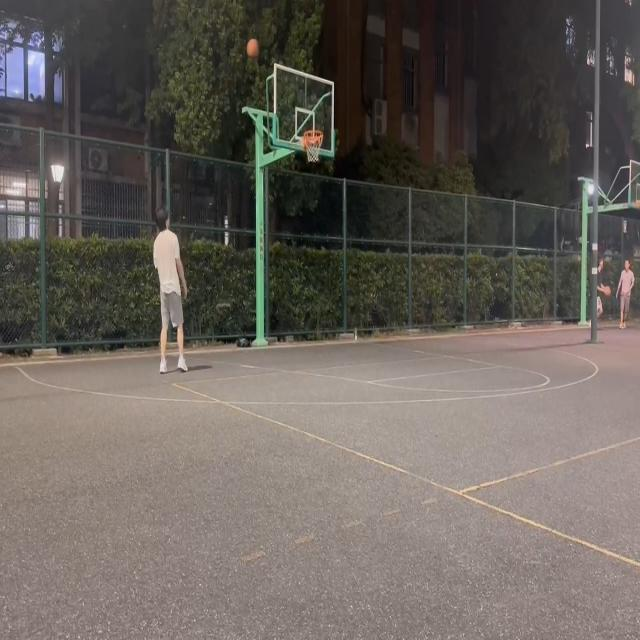basketball: (302, 130, 324, 163)
rim: (247, 38, 260, 58)
